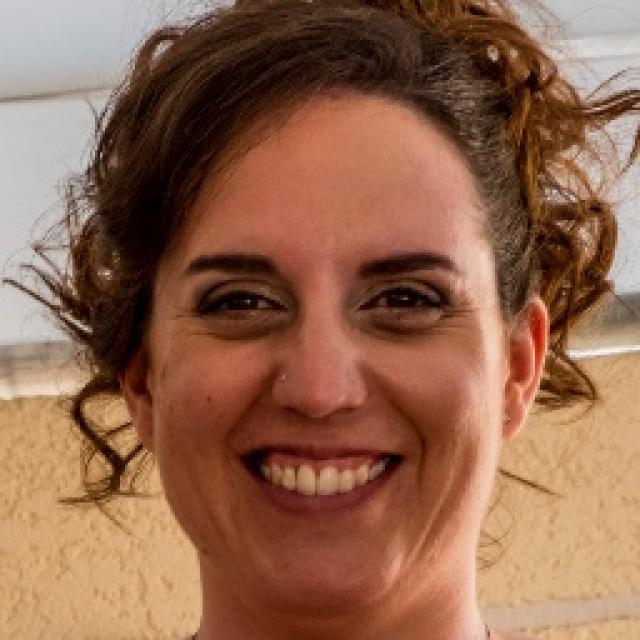earlobe: (497, 384, 531, 444), (128, 393, 159, 455)
eye: (205, 286, 281, 318), (363, 284, 437, 314)
nose: (270, 396, 368, 456)
wholeear: (498, 292, 550, 444), (108, 312, 158, 455)
